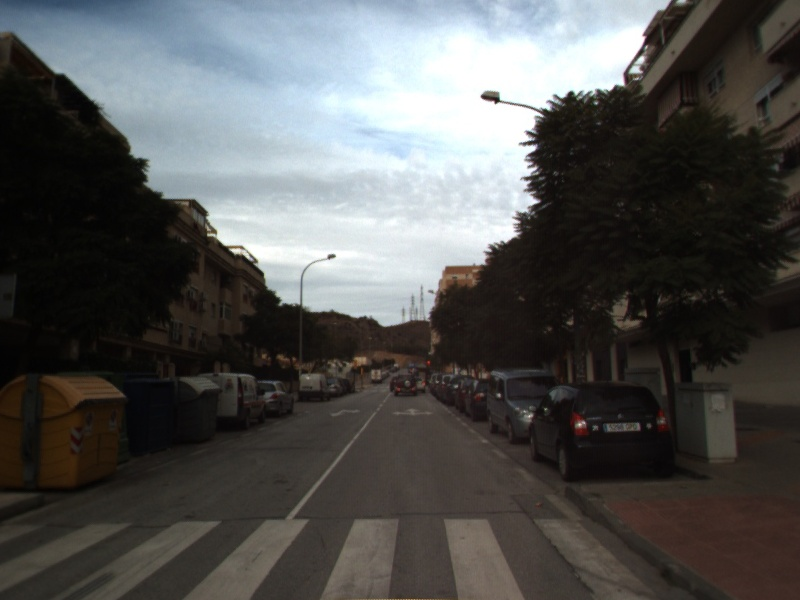STRAIGHT_LEFT_RIGHT: (391, 406, 436, 418)
